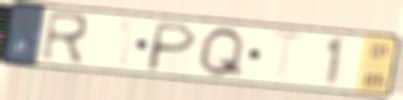1: (322, 34, 352, 90), (115, 20, 136, 69)
P: (142, 20, 200, 74)
Q: (195, 26, 249, 81)
R: (38, 10, 91, 68)
T: (268, 28, 309, 85)
